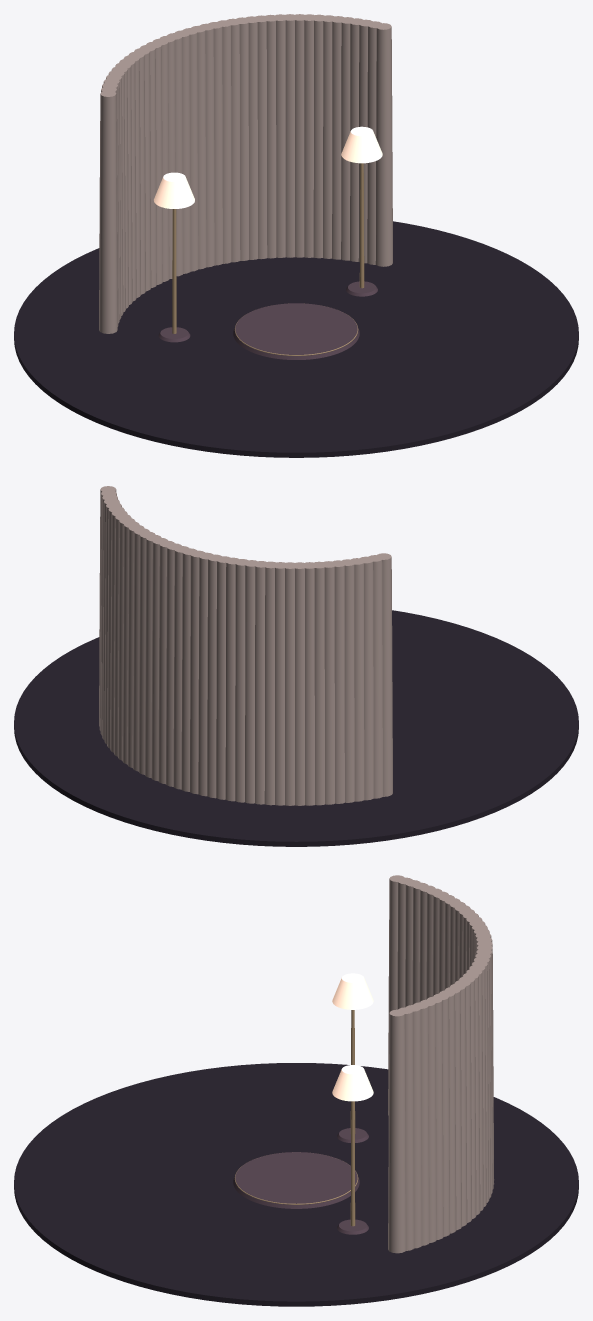
Rendered from room.glb.
The picture shows the model from 3 angles, top to bottom: view 1: azimuth 30°, elevation 25°; view 2: azimuth 150°, elevation 25°; view 3: azimuth 270°, elevation 25°; orthographic projection.
Parts seen in each view (by area): view 1: Floor, DisplayPlinth, CurtainFold39, CurtainFold0, CurtainFold10, CurtainFold9, CurtainFold8, CurtainFold11, CurtainFold5, CurtainFold6, CurtainFold7, CurtainFold12 (+31 smaller); view 2: Floor, CurtainFold35, CurtainFold24, CurtainFold32, CurtainFold34, CurtainFold33, CurtainFold39, CurtainFold36, CurtainFold23, CurtainFold25, CurtainFold26, CurtainFold28 (+28 smaller); view 3: Floor, DisplayPlinth, CurtainFold0, CurtainFold1, CurtainFold2, CurtainFold3, CurtainFold4, CurtainFold5, CurtainFold6, CurtainFold7, CurtainFold8, CurtainFold9 (+20 smaller).
Boxes of the visible parts, x1,y1,x2,y2 form: Floor: (14,221,578,457); DisplayPlinth: (233,303,359,359); CurtainFold39: (99,91,117,333); CurtainFold0: (375,23,392,266); CurtainFold10: (282,14,297,257); CurtainFold9: (292,14,307,257); CurtainFold8: (301,14,315,257); CurtainFold11: (272,14,286,257); CurtainFold5: (330,16,346,259); CurtainFold6: (321,15,335,258); CurtainFold7: (311,14,326,258); CurtainFold12: (263,14,277,258); Floor: (14,610,578,846); CurtainFold35: (341,559,355,802); CurtainFold24: (235,559,249,802); CurtainFold32: (311,561,326,805); CurtainFold34: (331,560,346,803); CurtainFold33: (321,561,336,804); CurtainFold39: (376,553,392,796); CurtainFold36: (349,558,364,801); CurtainFold23: (225,557,240,801); CurtainFold25: (244,560,259,803); CurtainFold26: (253,561,268,804); CurtainFold28: (273,562,287,805); Floor: (14,1063,578,1306); DisplayPlinth: (233,1152,359,1208); CurtainFold0: (388,1009,405,1253); CurtainFold1: (398,1007,413,1250); CurtainFold2: (406,1005,421,1248); CurtainFold3: (412,1002,429,1245); CurtainFold4: (420,999,436,1242); CurtainFold5: (427,996,443,1239); CurtainFold6: (433,993,450,1236); CurtainFold7: (439,990,456,1233); CurtainFold8: (444,987,461,1230); CurtainFold9: (450,983,467,1226).
Size of the model in its own units: 6 by 2.83 by 6.
